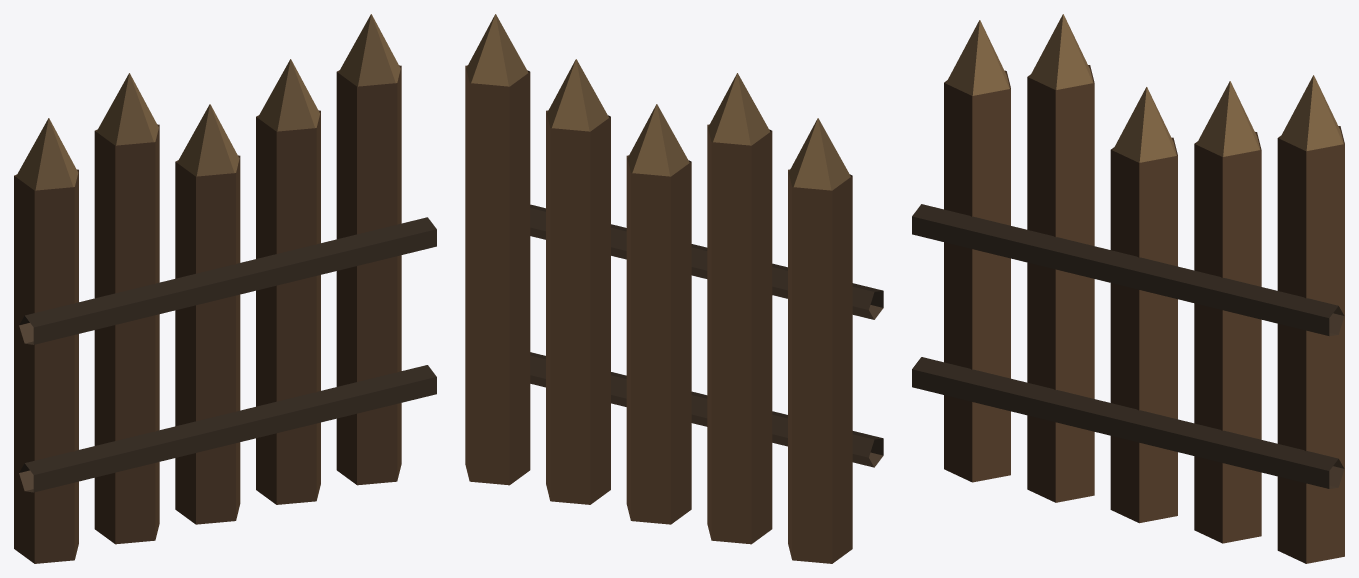
3 renders of one model, left to right at view 1: azimuth 30°, elevation 25°; view 2: azimuth 150°, elevation 25°; view 3: azimuth 330°, elevation 25°, orthographic. The views are drawn at different scales.
Visible parts, largest first — view 1: b12e3348a833cdc1c04b7a9df1cea56e96f17f74f105440f5c56cfcc8aa3; view 2: b12e3348a833cdc1c04b7a9df1cea56e96f17f74f105440f5c56cfcc8aa3; view 3: b12e3348a833cdc1c04b7a9df1cea56e96f17f74f105440f5c56cfcc8aa3.
Part boxes in pixels (left/top/right/bottom): b12e3348a833cdc1c04b7a9df1cea56e96f17f74f105440f5c56cfcc8aa3: left=14, top=14, right=436, bottom=563; b12e3348a833cdc1c04b7a9df1cea56e96f17f74f105440f5c56cfcc8aa3: left=465, top=14, right=883, bottom=563; b12e3348a833cdc1c04b7a9df1cea56e96f17f74f105440f5c56cfcc8aa3: left=912, top=14, right=1344, bottom=563.
Bounding box in the file's own units: 2 × 2.17 × 0.3593.
Materials: 1 (1 with a texture image).
